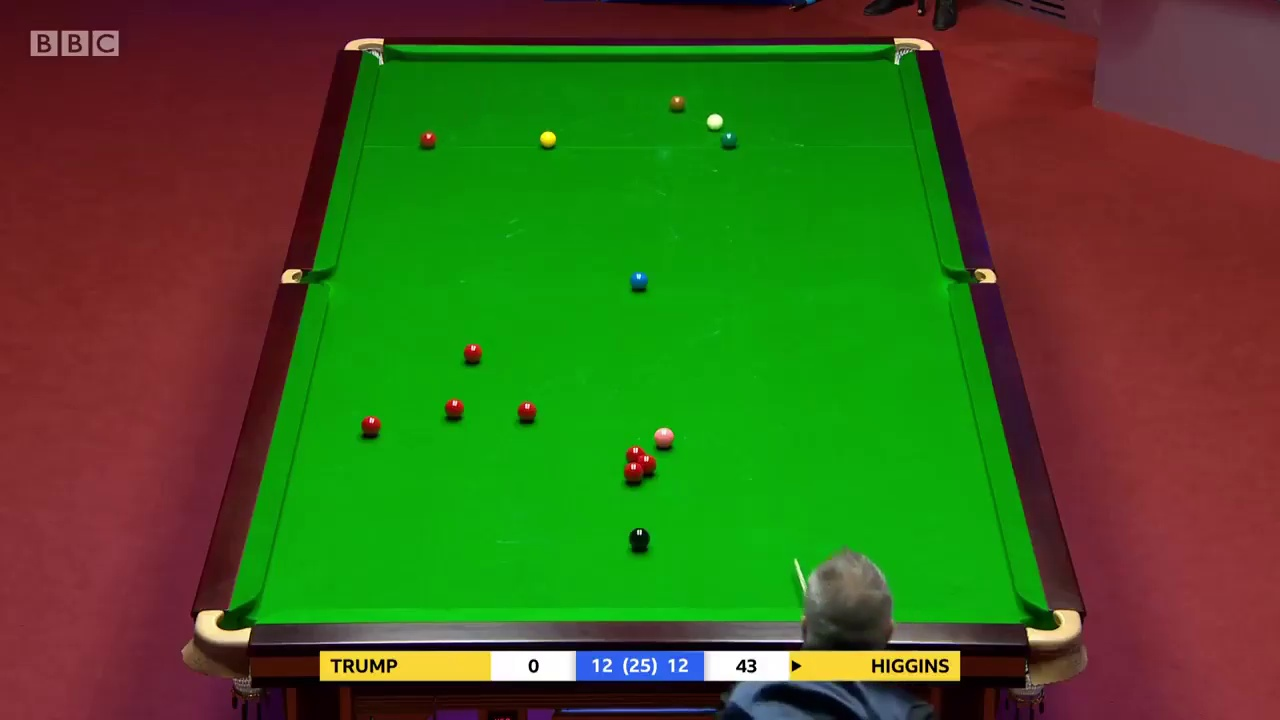ball: (627, 273, 649, 294), (463, 343, 483, 366), (442, 398, 462, 419), (360, 415, 381, 435), (629, 526, 649, 546), (516, 403, 536, 422), (654, 425, 671, 445), (540, 132, 558, 150), (623, 461, 640, 480), (720, 129, 737, 147), (419, 131, 435, 149)
